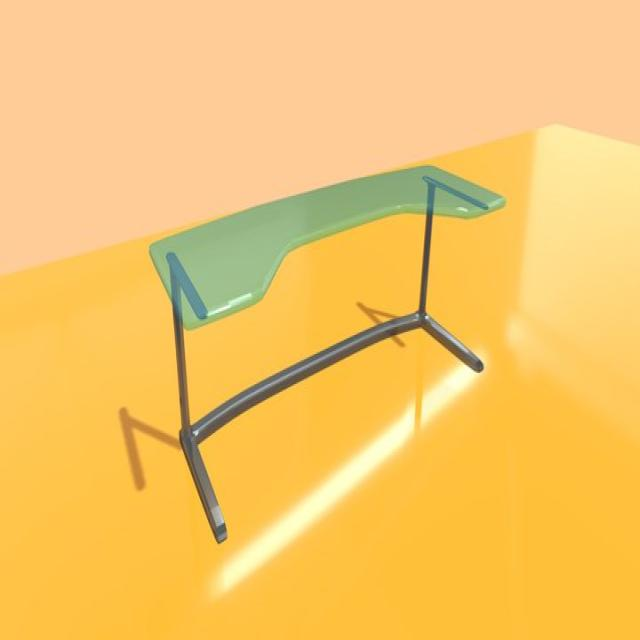table: (147, 161, 511, 547)
